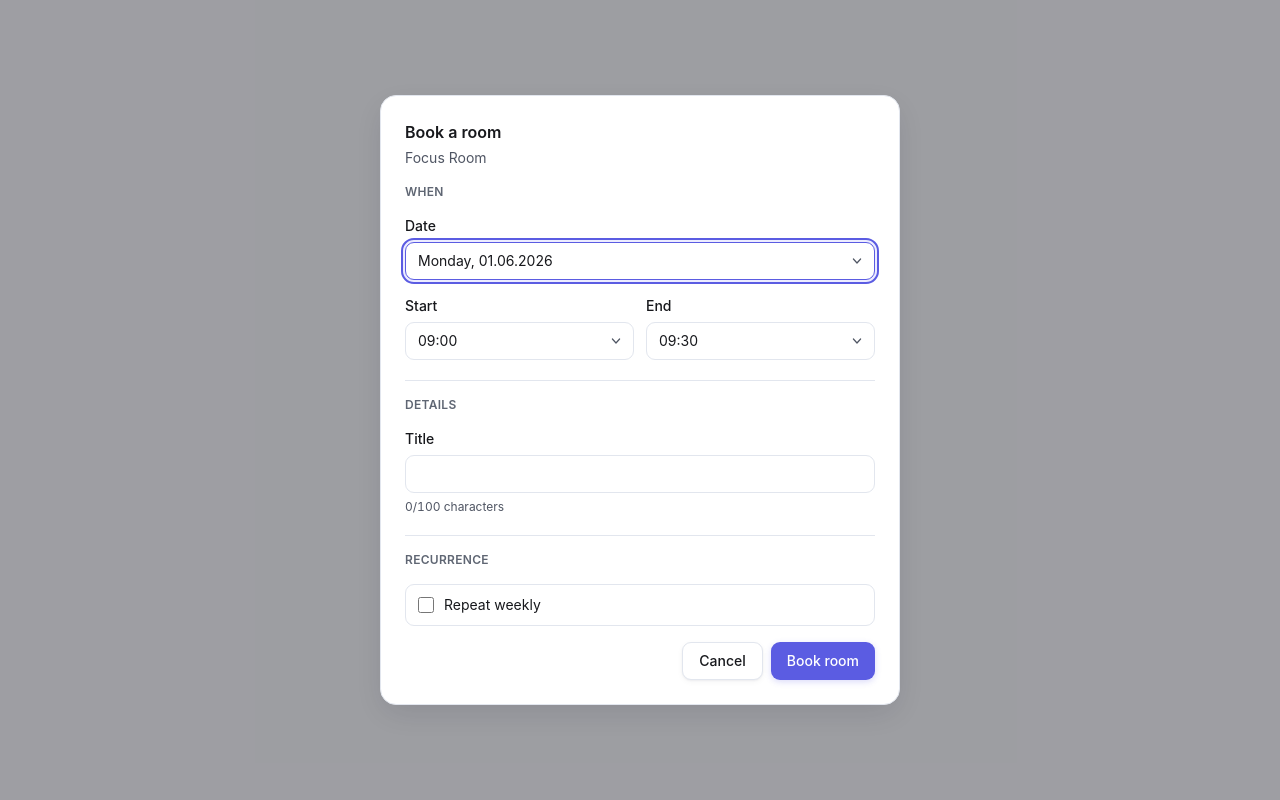
it: BookingCreateDialog validation › clears the title error as soon as a valid title is typed, without resubmitting
Click the button "Book room" at (823, 661), box [771,642,875,680]
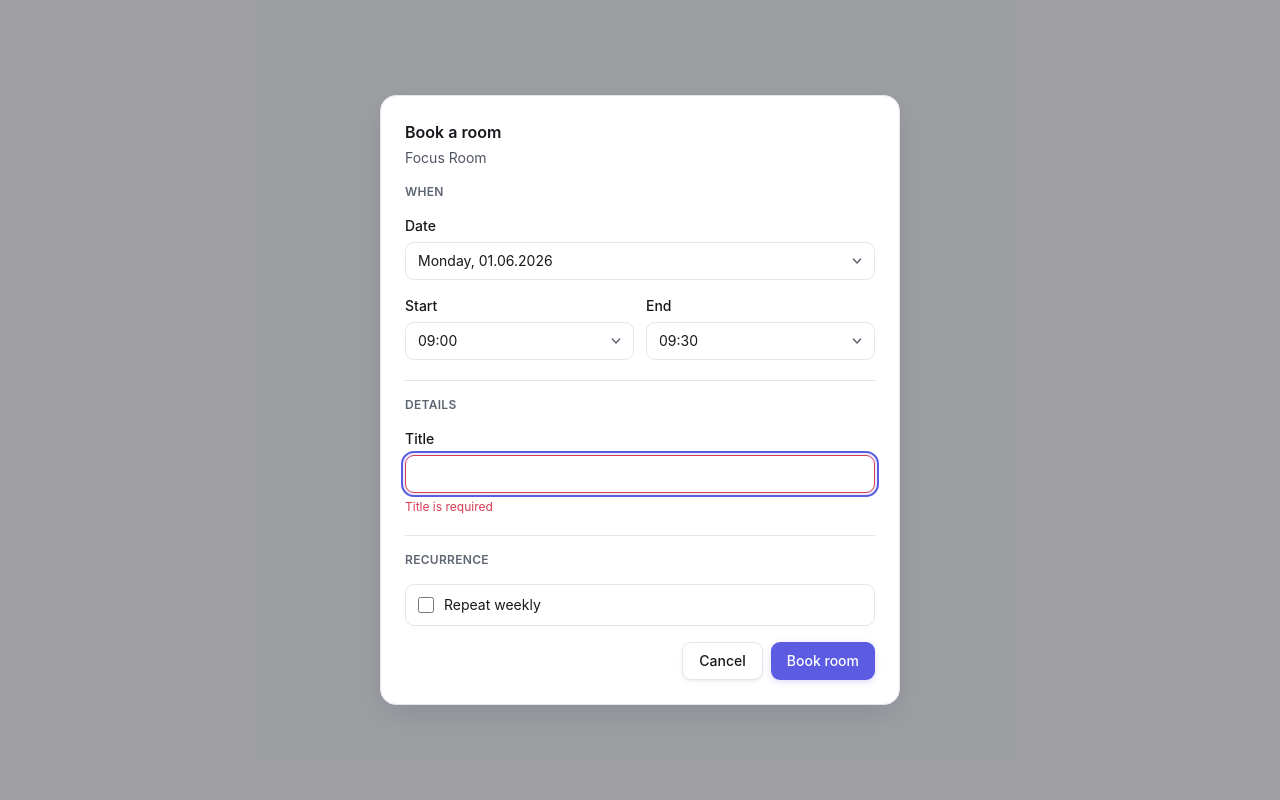
Expected: the text "Title is required" is shown, [405,499,493,514]
Type "Sprint planning" into the field labelled "Title" at (640, 474), box [405,455,875,493]
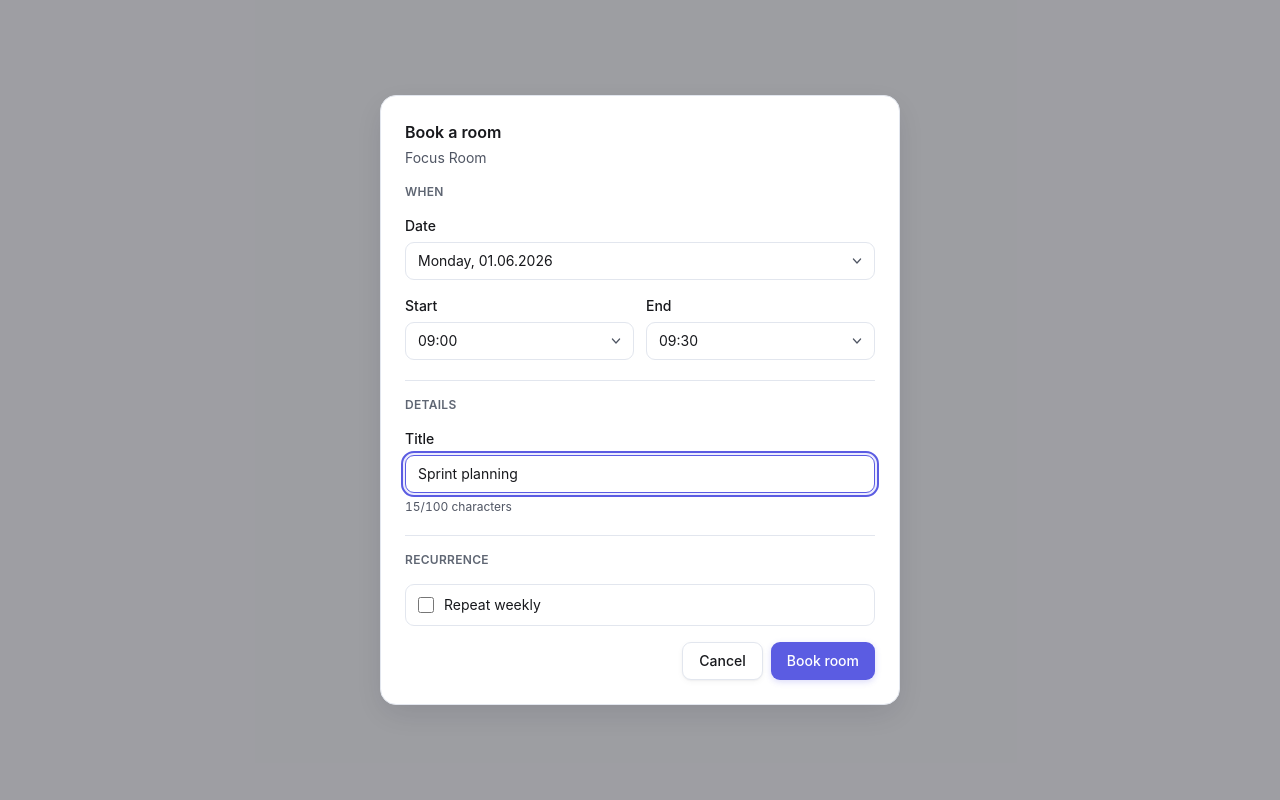
Expected: the text "Title is required" is gone
